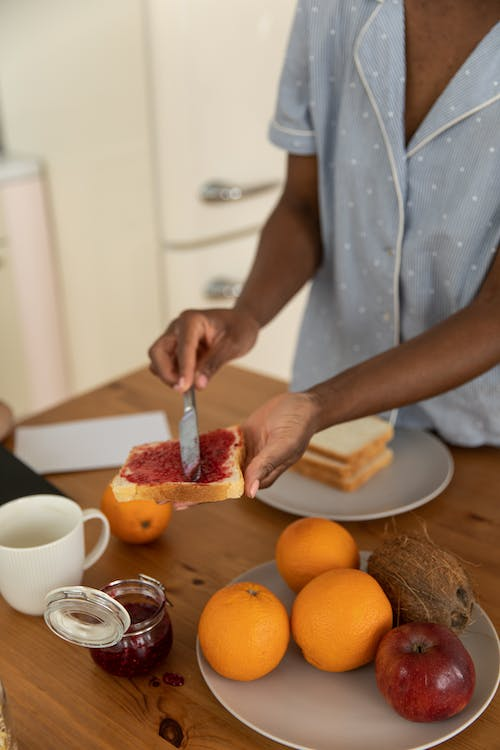knife: (177, 389, 204, 483)
